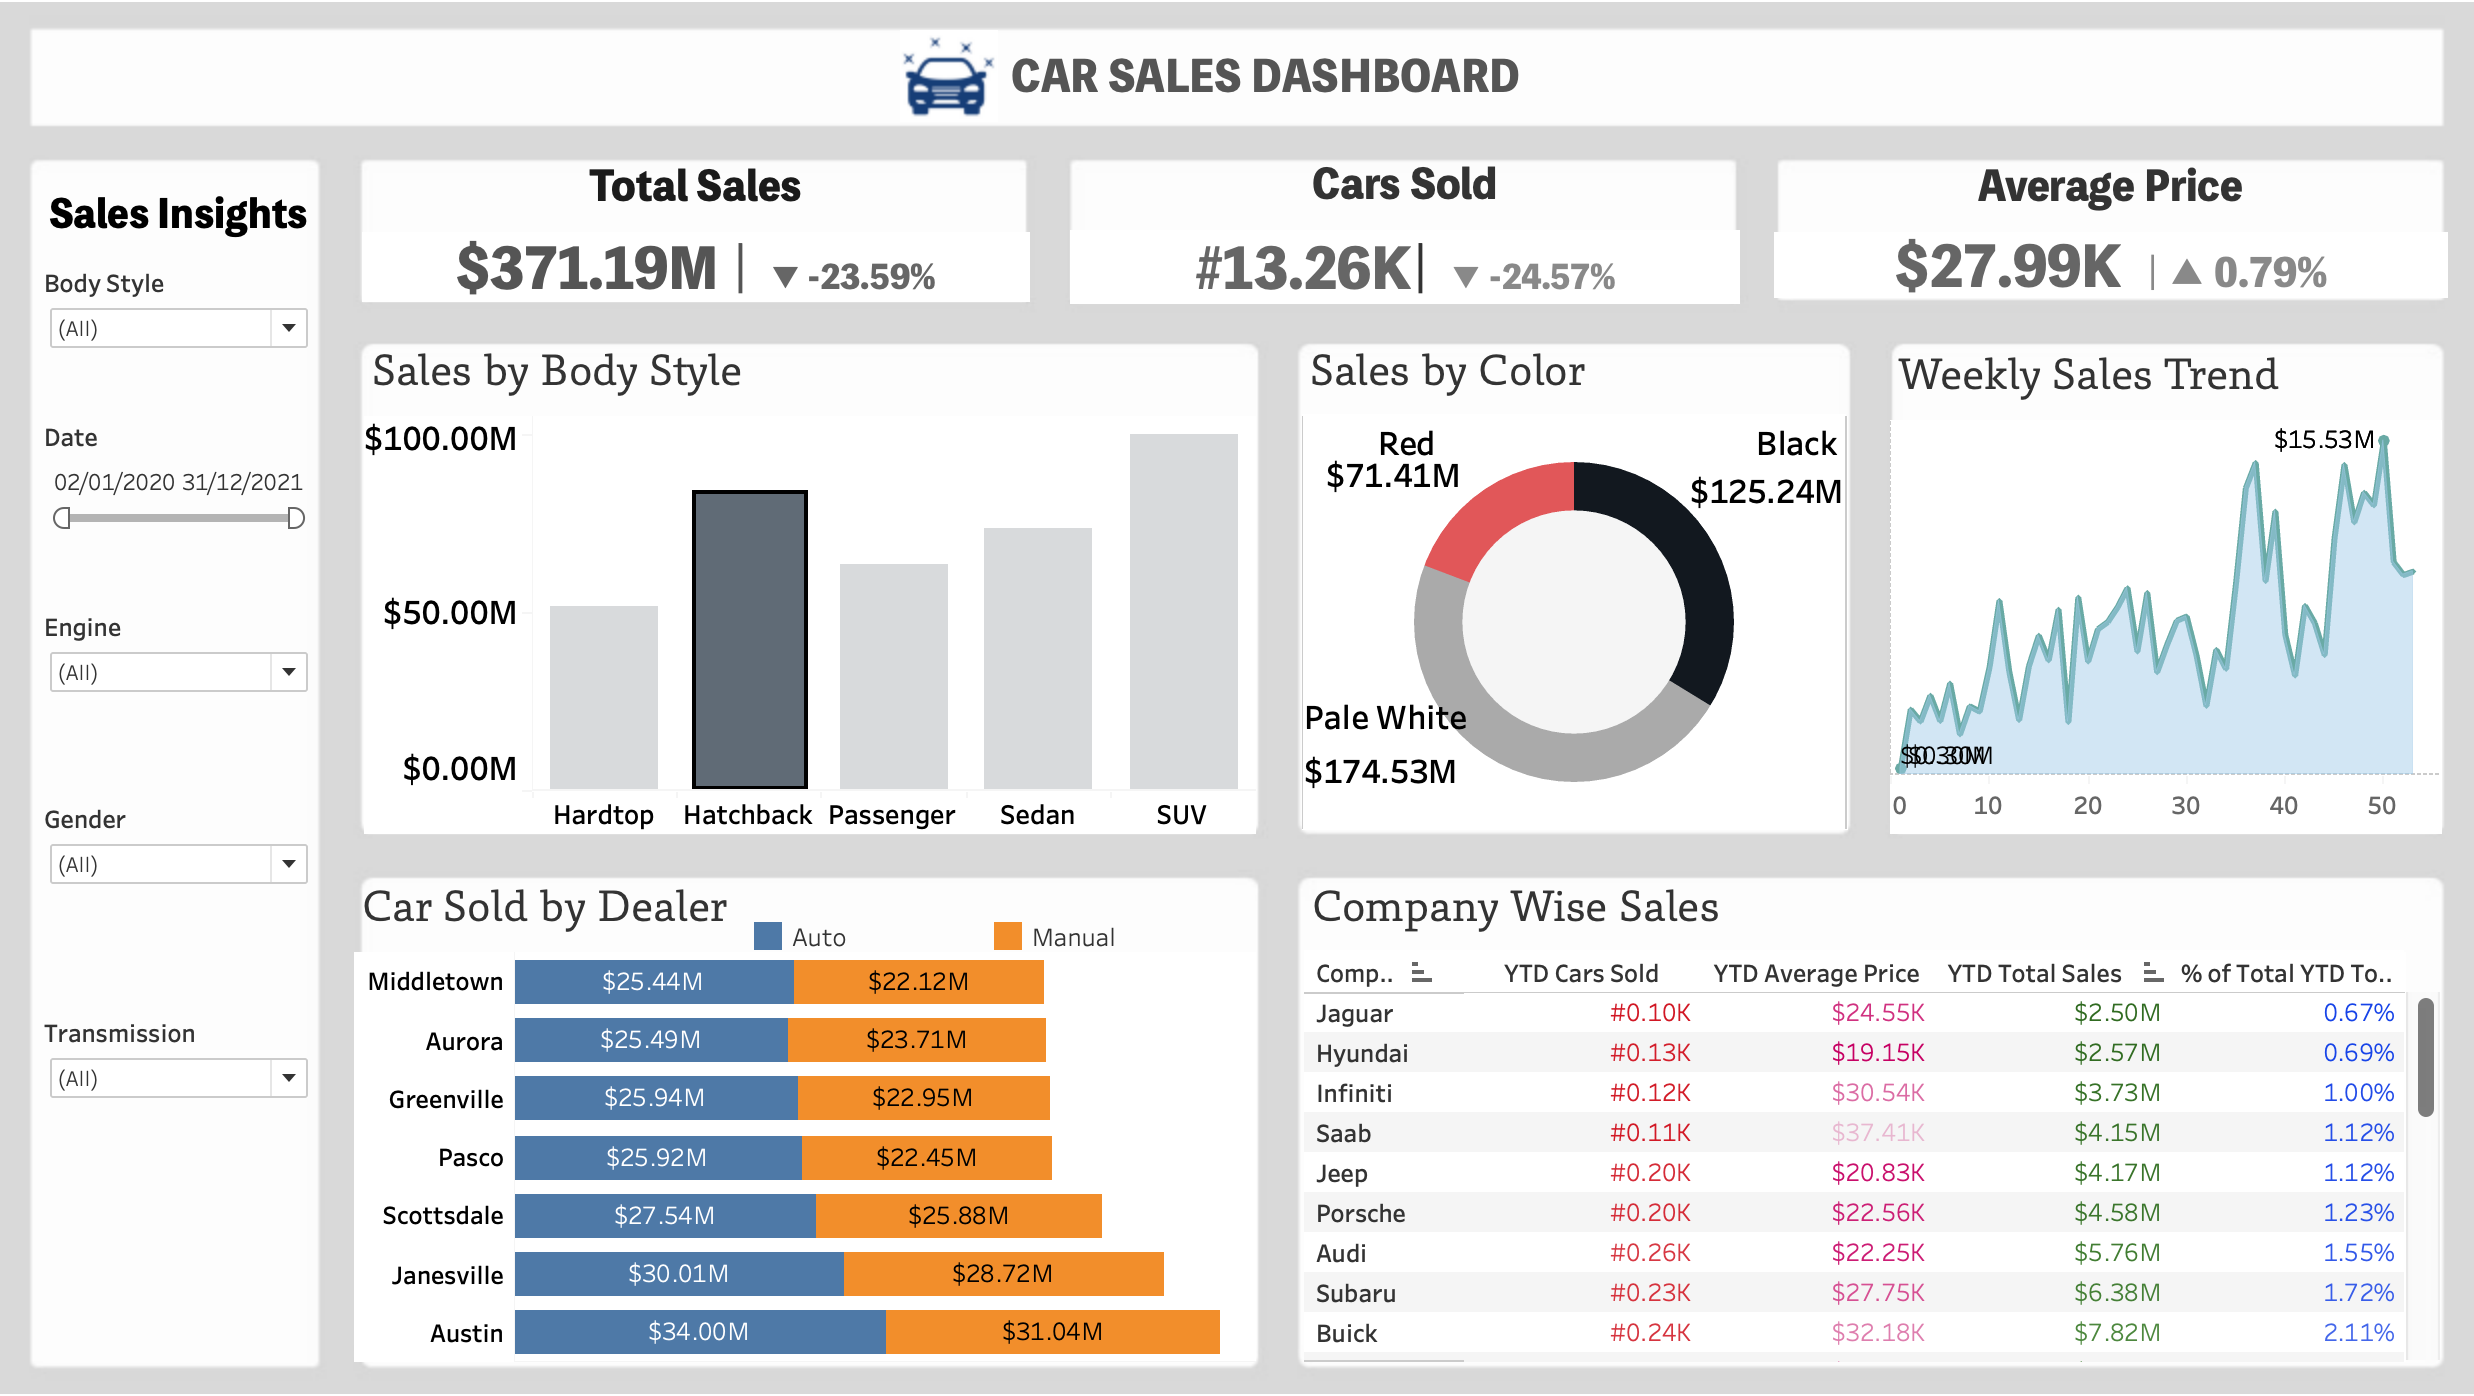

Layout of this report page (visuals, bound fields, positions):
{"tool":"tableau","page":{"name":"Dashboard 1","canvas":[1280,720],"ordinal":0},"visuals":[{"type":"image","param":"Image/Car Sales Background Tableau.jpg","box":[8,8,1264,704]},{"type":"text","box":[404,26,500,47]},{"type":"image","param":"Image/Screenshot 2024-04-03 at 5.27.20 PM.png","box":[462,26,68,46]},{"type":"worksheet","title":"YTD Cars Sold","mark":"Automatic","box":[556,91,335,72]},{"type":"worksheet","title":"YTD Sales","mark":"Automatic","box":[202,92,334,70]},{"type":"worksheet","title":"YTD Average Price","mark":"Automatic","box":[908,92,337,68]},{"type":"text","box":[39,96,143,44]},{"type":"filter","title":"Sales by style","param":"[federated.0tadxf60jcj20z11uf2h81dd806t].[none:Body Style:nk]","box":[39,140,143,77]},{"type":"worksheet","title":"Sales by style","mark":"Bar","rows":["Calculation_2465580062134329344"],"cols":["Body Style"],"box":[203,184,446,244]},{"type":"worksheet","title":"sales by color","mark":"Pie","rows":["Calculation_2465580062178447372","Calculation_2465580062178541582"],"box":[672,184,273,242]},{"type":"worksheet","title":"Weekly Sales trend","mark":"Line","rows":["Calculation_2465580062134329344","Calculation_2465580062134329344"],"cols":["Date"],"box":[966,186,276,242]},{"type":"filter","title":"Sales by style","param":"[federated.0tadxf60jcj20z11uf2h81dd806t].[none:Date:qk]","box":[39,217,143,95]},{"type":"filter","title":"Sales by style","param":"[federated.0tadxf60jcj20z11uf2h81dd806t].[none:Engine:nk]","box":[39,312,143,96]},{"type":"filter","title":"Sales by style","param":"[federated.0tadxf60jcj20z11uf2h81dd806t].[none:Gender:nk]","box":[39,408,143,107]},{"type":"legend","title":"car sold by dealer","param":"[federated.0tadxf60jcj20z11uf2h81dd806t].[none:Transmission:nk]","box":[395,451,251,39]},{"type":"worksheet","title":"car sold by dealer","mark":"Automatic","rows":["Dealer_Region"],"cols":["Calculation_2465580062143967237"],"box":[198,452,451,240]},{"type":"worksheet","title":"Company wise sales","mark":"Automatic","rows":["Company"],"box":[673,452,568,240]},{"type":"blank","box":[66,458,426,240]},{"type":"filter","title":"Sales by style","param":"[federated.0tadxf60jcj20z11uf2h81dd806t].[none:Transmission:nk]","box":[39,515,143,56]}]}

Visuals, with their boxes in screenshot pixels (x1, y1, x2, y2), scaled from the page's 1280x720 canvas onto the 2474x1396 screenshot:
image: l=15, t=16, r=2459, b=1380
text: l=781, t=50, r=1747, b=142
image: l=893, t=50, r=1024, b=140
"YTD Cars Sold" worksheet: l=1075, t=176, r=1722, b=316
"YTD Sales" worksheet: l=390, t=178, r=1036, b=314
"YTD Average Price" worksheet: l=1755, t=178, r=2406, b=310
text: l=75, t=186, r=352, b=271
"Sales by style" filter: l=75, t=271, r=352, b=421
"Sales by style" worksheet (Bar marks): l=392, t=357, r=1254, b=830
"sales by color" worksheet (Pie marks): l=1299, t=357, r=1827, b=826
"Weekly Sales trend" worksheet (Line marks): l=1867, t=361, r=2401, b=830
"Sales by style" filter: l=75, t=421, r=352, b=605
"Sales by style" filter: l=75, t=605, r=352, b=791
"Sales by style" filter: l=75, t=791, r=352, b=999
"car sold by dealer" legend: l=763, t=874, r=1249, b=950
"car sold by dealer" worksheet: l=383, t=876, r=1254, b=1342
"Company wise sales" worksheet: l=1301, t=876, r=2399, b=1342
blank: l=128, t=888, r=951, b=1353
"Sales by style" filter: l=75, t=999, r=352, b=1107
